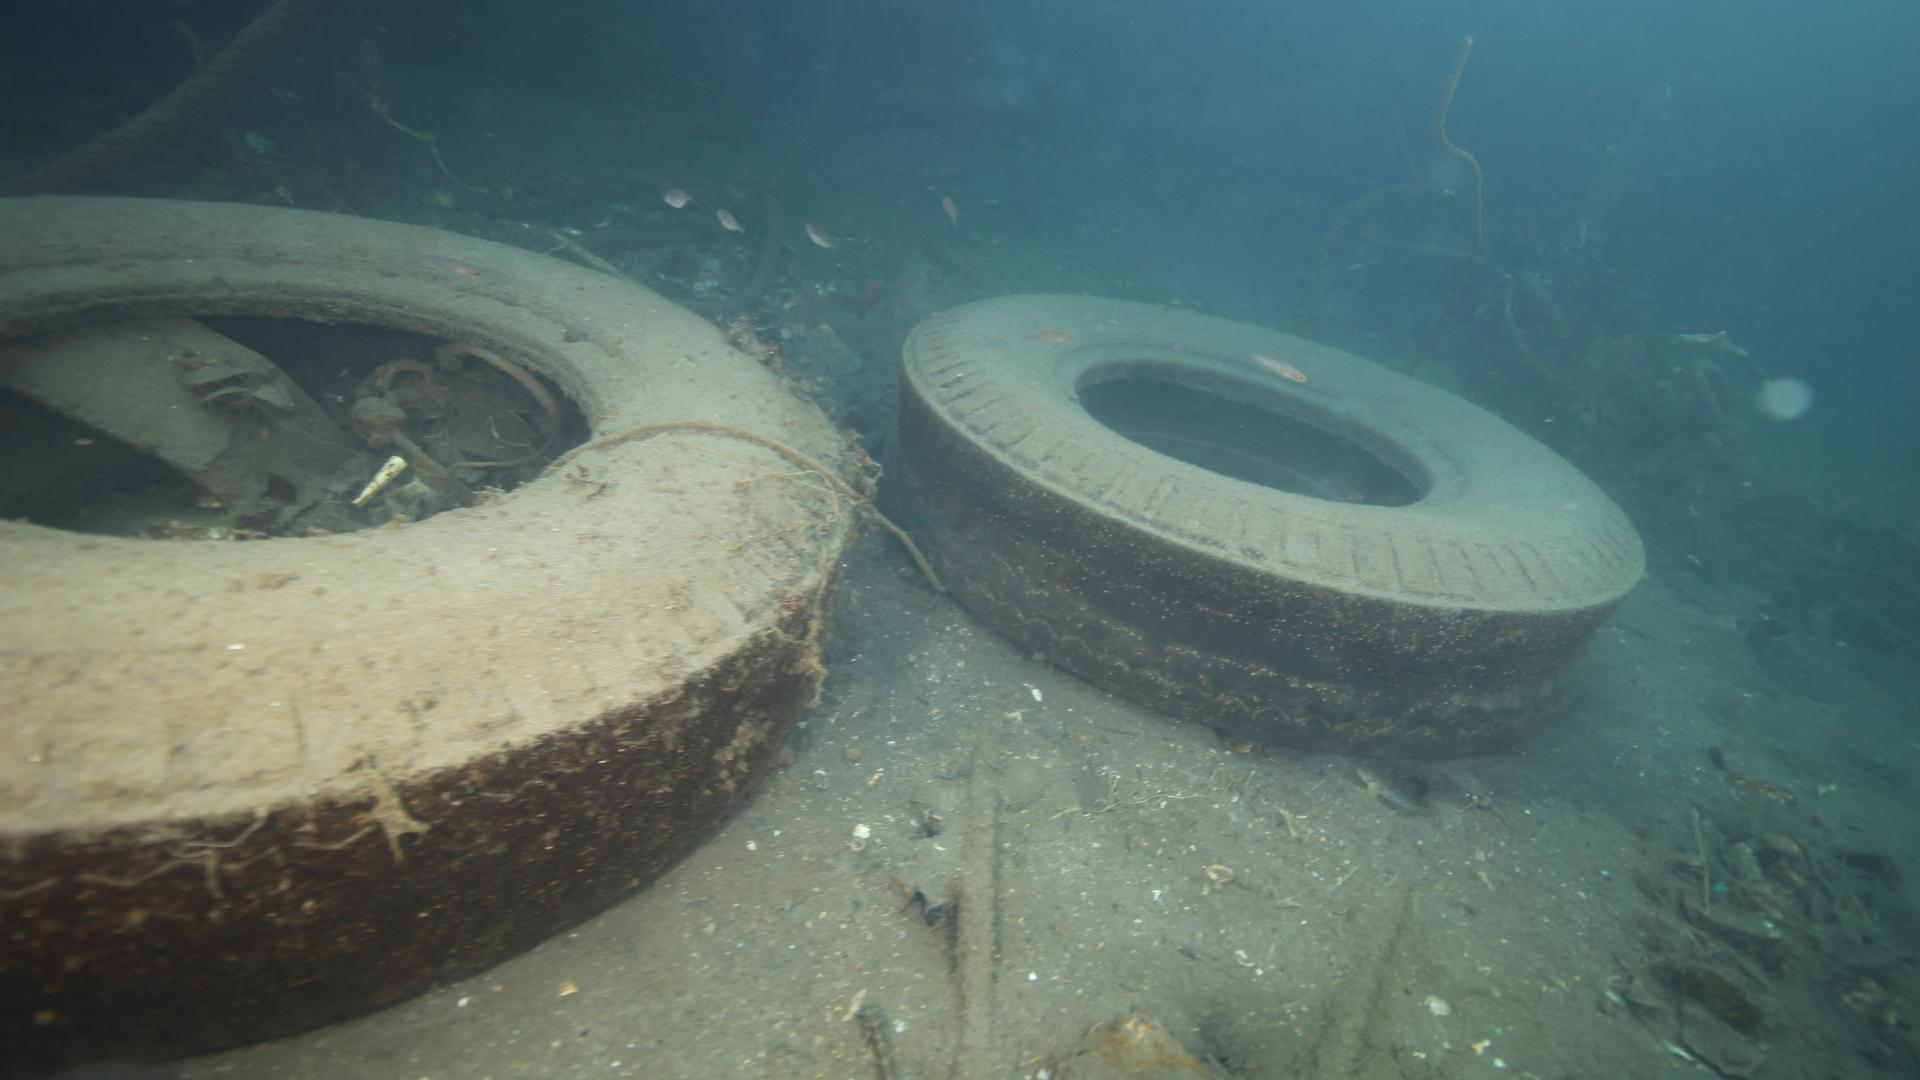rope: (0, 0, 290, 193)
tire: (0, 193, 851, 1080), (895, 287, 1648, 760)
